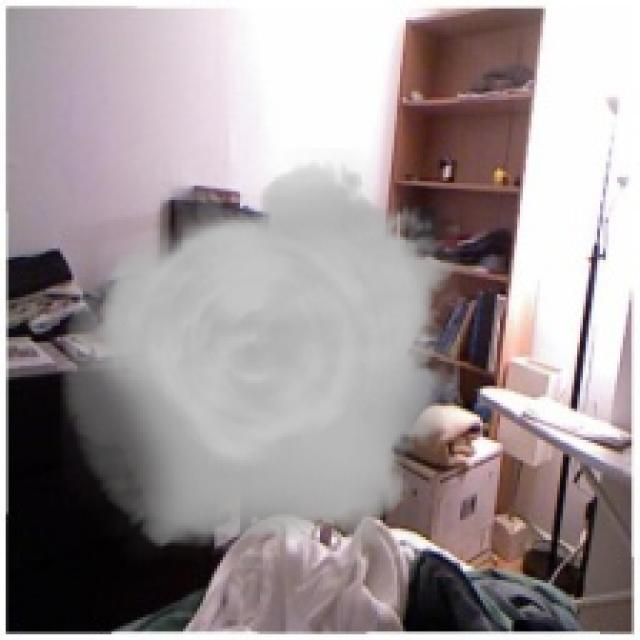smoke: (60, 148, 460, 568)
